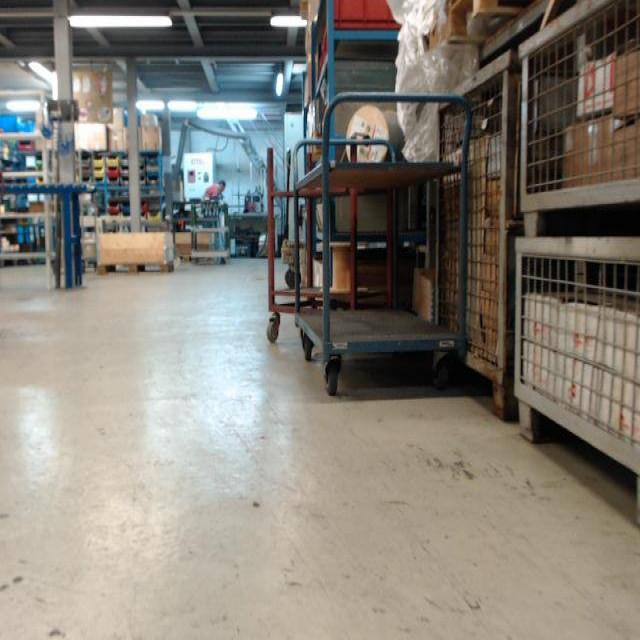pallet: (444, 0, 527, 46), (96, 259, 176, 277), (178, 254, 215, 265)
small_load_carrier: (311, 4, 410, 77)
stillage: (414, 44, 520, 436), (513, 230, 638, 529), (508, 3, 637, 240)
